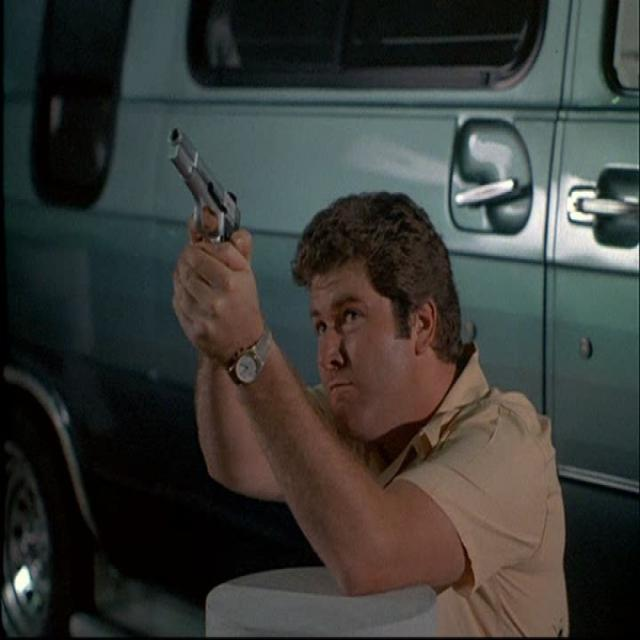weapons: (158, 100, 252, 334)
